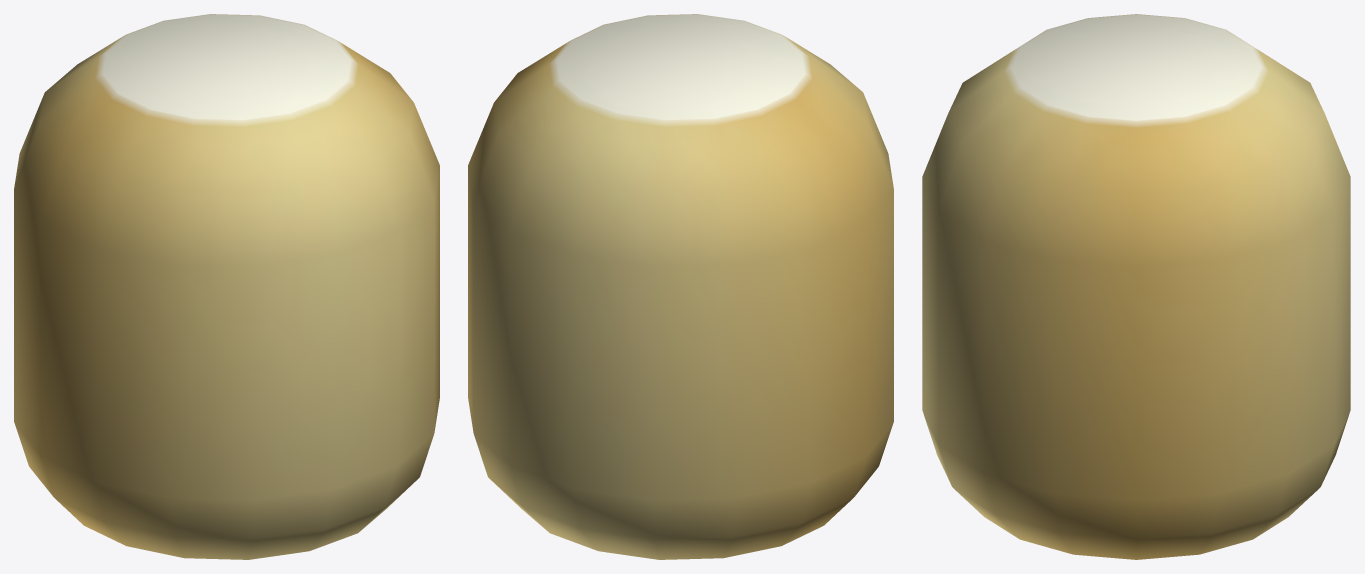
File: 新雪糕工厂-雪糕原料混合机012.FBX
3 renders of one model, left to right at view 1: azimuth 30°, elevation 25°; view 2: azimuth 150°, elevation 25°; view 3: azimuth 270°, elevation 25°, orthographic.
Visible parts, largest first — view 1: 新雪糕工厂-雪糕原料混合机012; view 2: 新雪糕工厂-雪糕原料混合机012; view 3: 新雪糕工厂-雪糕原料混合机012.
Boxes of the visible parts, box(x1,y1,x2,y2) form: 新雪糕工厂-雪糕原料混合机012: box(14, 14, 439, 559); 新雪糕工厂-雪糕原料混合机012: box(468, 14, 893, 559); 新雪糕工厂-雪糕原料混合机012: box(922, 14, 1350, 559).
Size of the model in its own units: 23.33 by 26.8 by 23.33.
1 material, 1 textured.
